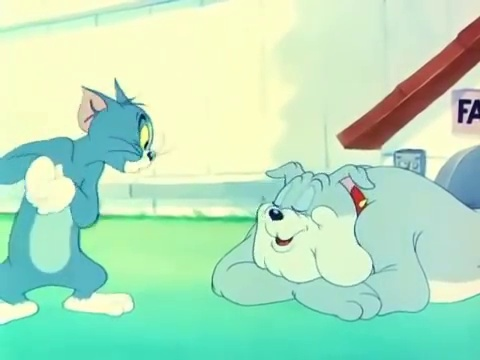spike: (250, 158, 381, 290)
tom: (70, 74, 161, 176)
